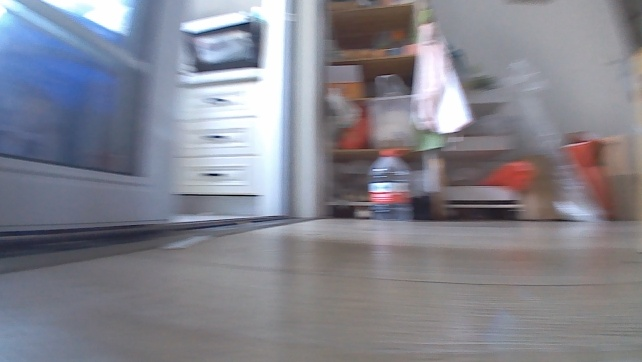cupboard1: (171, 64, 265, 216)
